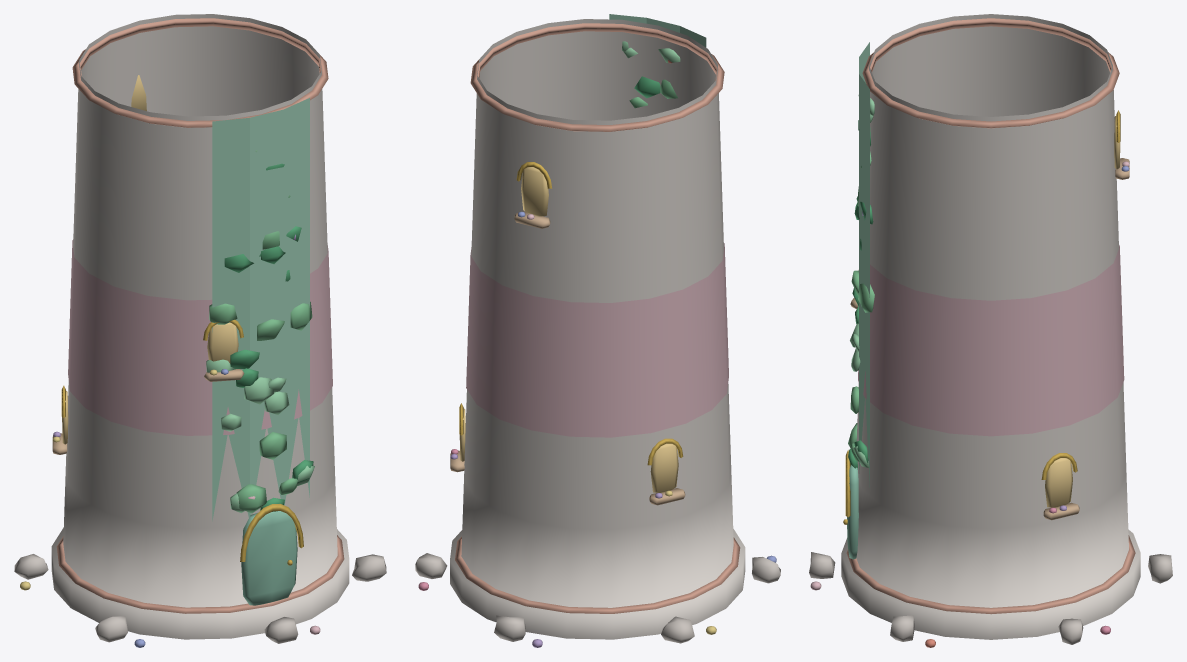
File: watchtower_base.gltf
3 views of the same model, side by side, from view 1: azimuth 30°, elevation 25°; view 2: azimuth 150°, elevation 25°; view 3: azimuth 270°, elevation 25° (orthographic).
Visible parts, largest first — view 1: watchtower_base, watchtower_base_climb; view 2: watchtower_base, watchtower_base_climb; view 3: watchtower_base, watchtower_base_climb.
Part boxes in pixels (box(x1,y1,x2,y2)): watchtower_base: box(14, 14, 386, 647); watchtower_base_climb: box(212, 98, 309, 521); watchtower_base: box(415, 19, 780, 647); watchtower_base_climb: box(609, 14, 706, 47); watchtower_base: box(809, 14, 1172, 647); watchtower_base_climb: box(859, 42, 869, 487).
Size of what is drawn, in the model's own units: 7.99 by 13 by 8.39.
